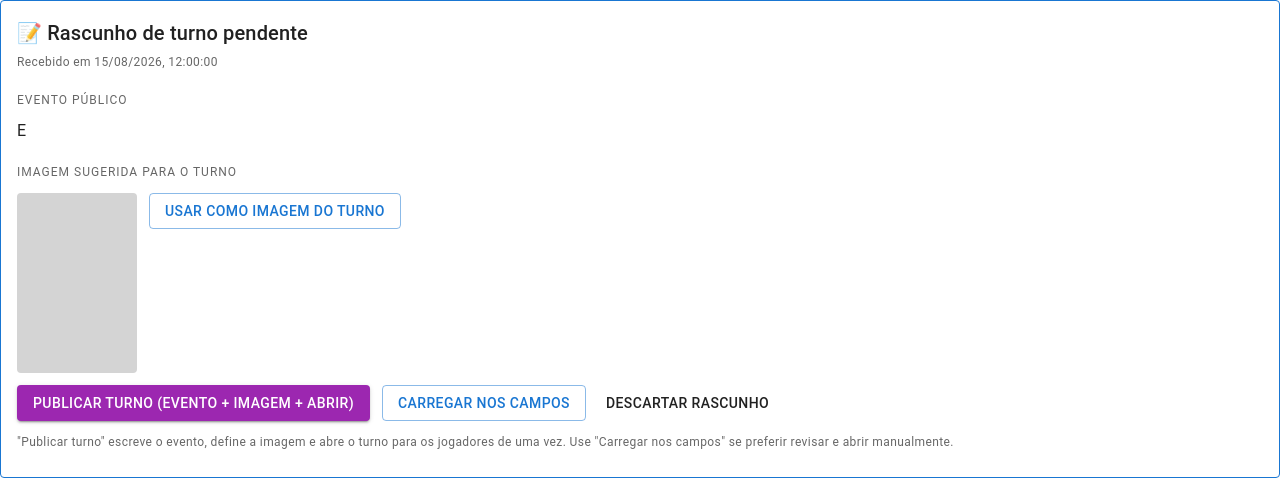
Scenario: TurnDraftBanner › define a imagem do turno a partir da sugestão do rascunho
Expected: the heading "📝 Rascunho de turno pendente" is shown, [17, 21, 308, 45]
Click the button "Usar como imagem do turno" at (275,211), box [149, 193, 401, 229]
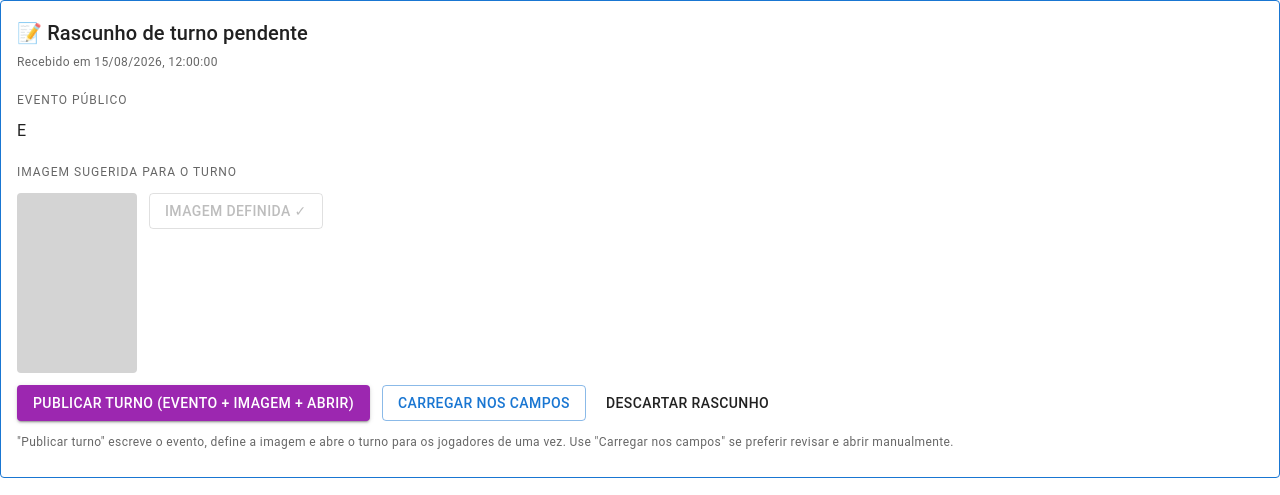
Expected: the button "Imagem definida ✓" is shown, [149, 193, 323, 229]
